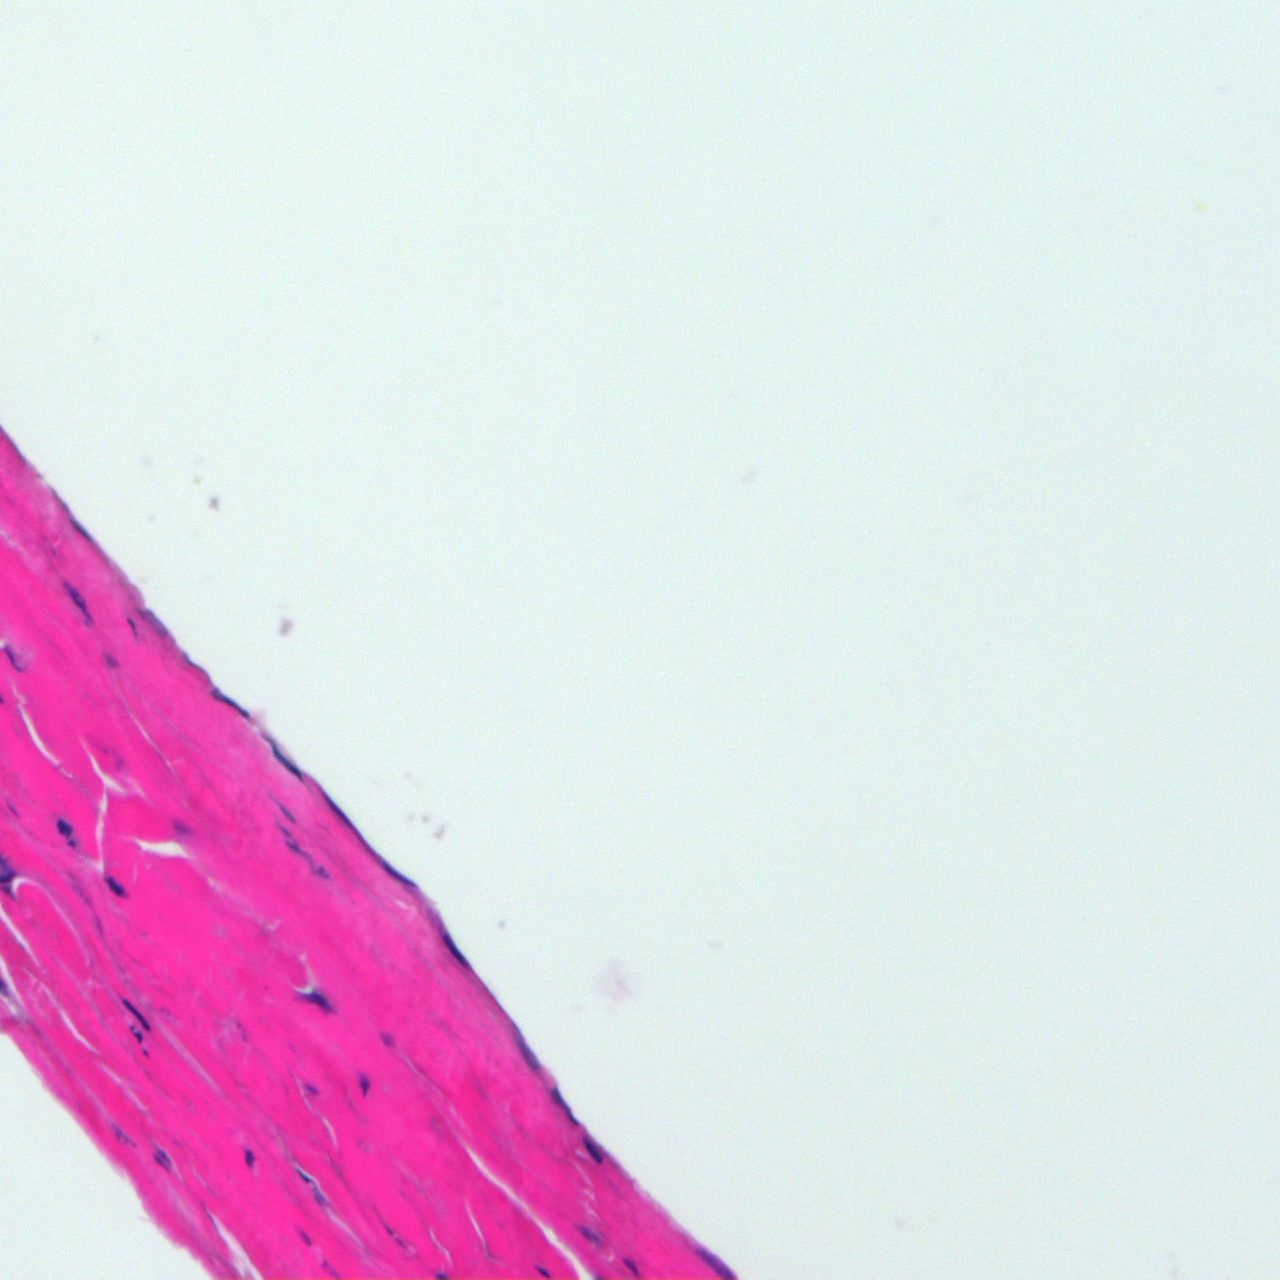nucleus-HE: (319, 791, 366, 842), (372, 850, 422, 896), (55, 576, 100, 627), (261, 738, 307, 784), (209, 685, 253, 723), (440, 931, 474, 976), (572, 1217, 610, 1252), (120, 995, 154, 1033), (549, 1085, 578, 1126), (148, 1143, 181, 1177), (64, 513, 96, 549), (298, 989, 338, 1015), (579, 1133, 607, 1166), (273, 799, 301, 828), (617, 1252, 645, 1280), (292, 1164, 316, 1190), (57, 818, 77, 847), (103, 874, 127, 899), (530, 1262, 552, 1280), (358, 1073, 372, 1099), (124, 617, 139, 636), (243, 1148, 253, 1166), (301, 1081, 316, 1094), (132, 1032, 143, 1046)
